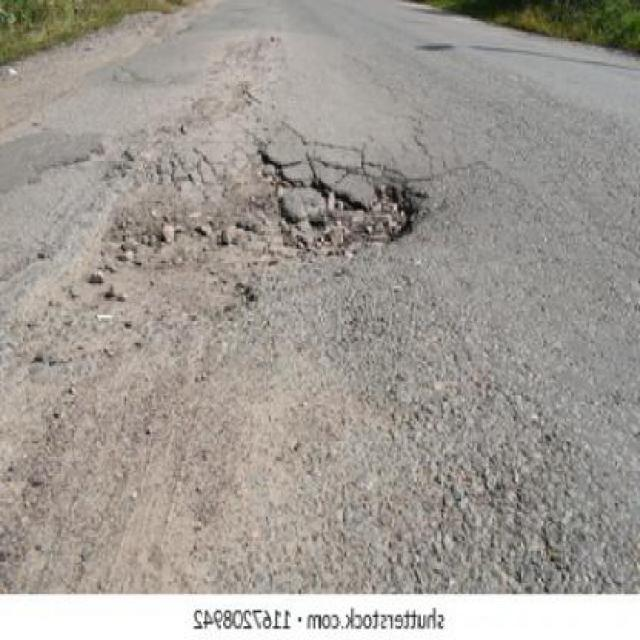Pothole: (81, 127, 434, 310)
